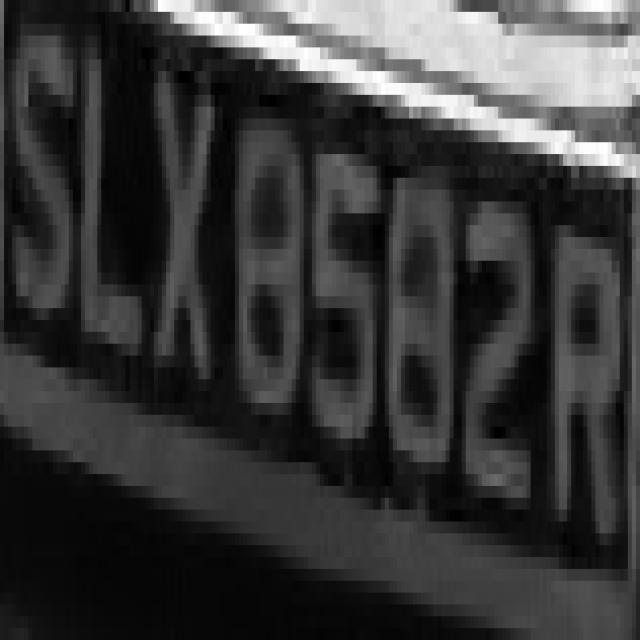2: (453, 142, 542, 545)
5: (300, 59, 385, 522)
8: (227, 36, 308, 450), (385, 119, 458, 522)
L: (73, 12, 146, 427)
R: (539, 154, 624, 605)
S: (0, 36, 77, 391)
X: (142, 12, 223, 427)
